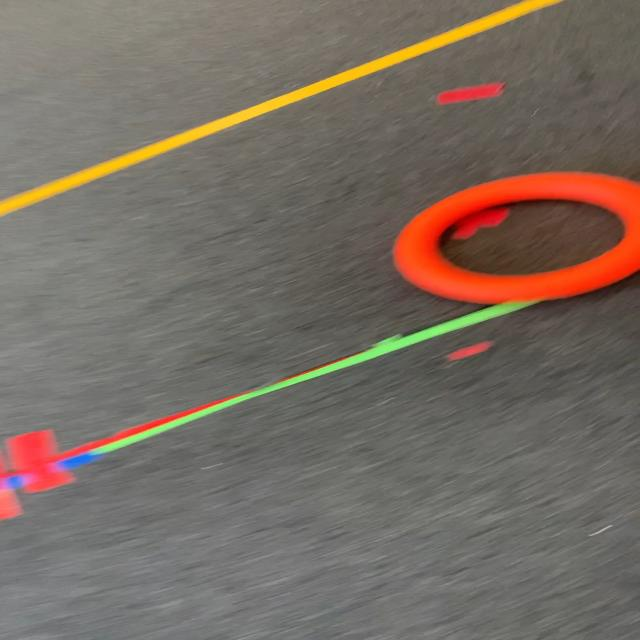notes: (391, 171, 640, 305)
